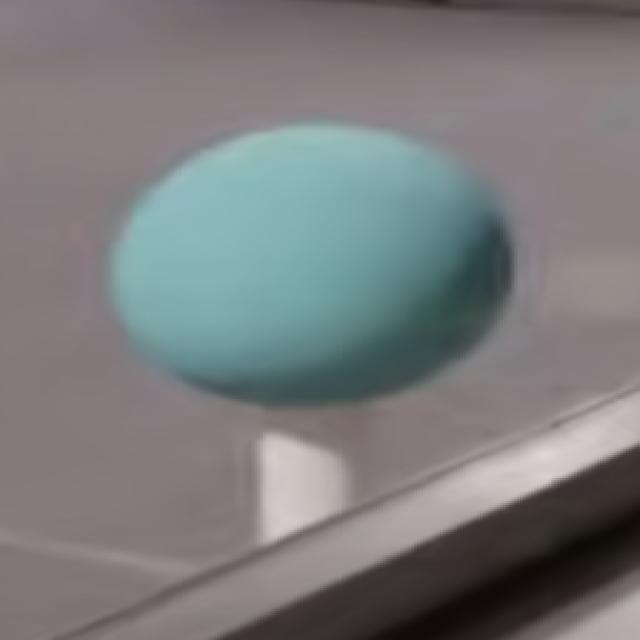Algae: (106, 123, 517, 409)
Coral: (255, 399, 361, 544)
